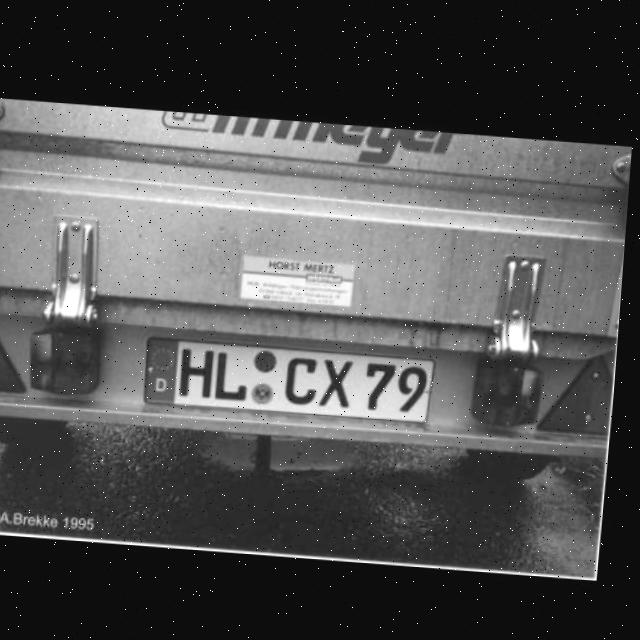license-plates: (146, 340, 434, 423)
